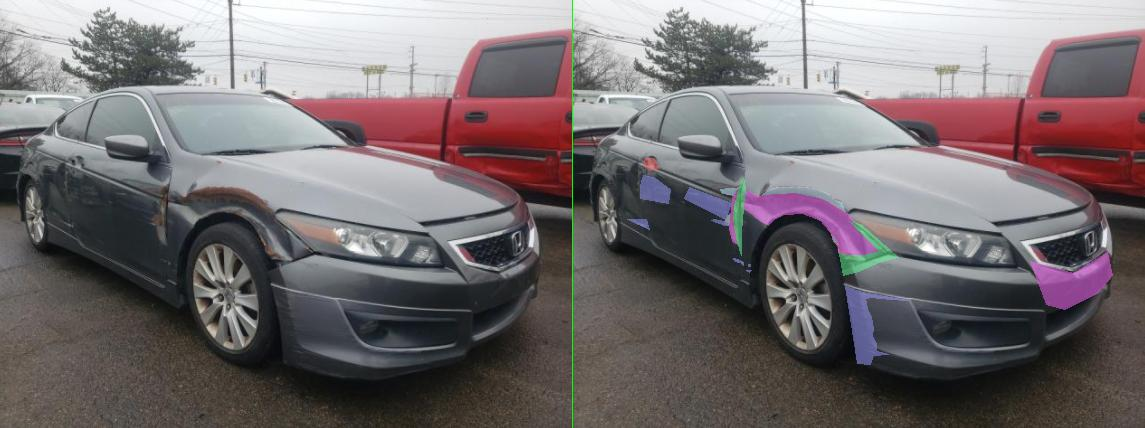Broken part: (532, 221, 651, 275), (320, 177, 344, 255)
Corrosion: (366, 187, 546, 213), (294, 184, 338, 226), (516, 229, 564, 260), (450, 209, 486, 217)
Dent: (336, 191, 629, 268), (915, 252, 1079, 309), (312, 185, 336, 246)
Missing part: (140, 158, 172, 170)
Scratch: (544, 286, 669, 364), (222, 187, 316, 219), (134, 175, 194, 203), (108, 219, 152, 229), (276, 219, 310, 225), (320, 258, 340, 265), (346, 270, 356, 272), (350, 264, 354, 266)
